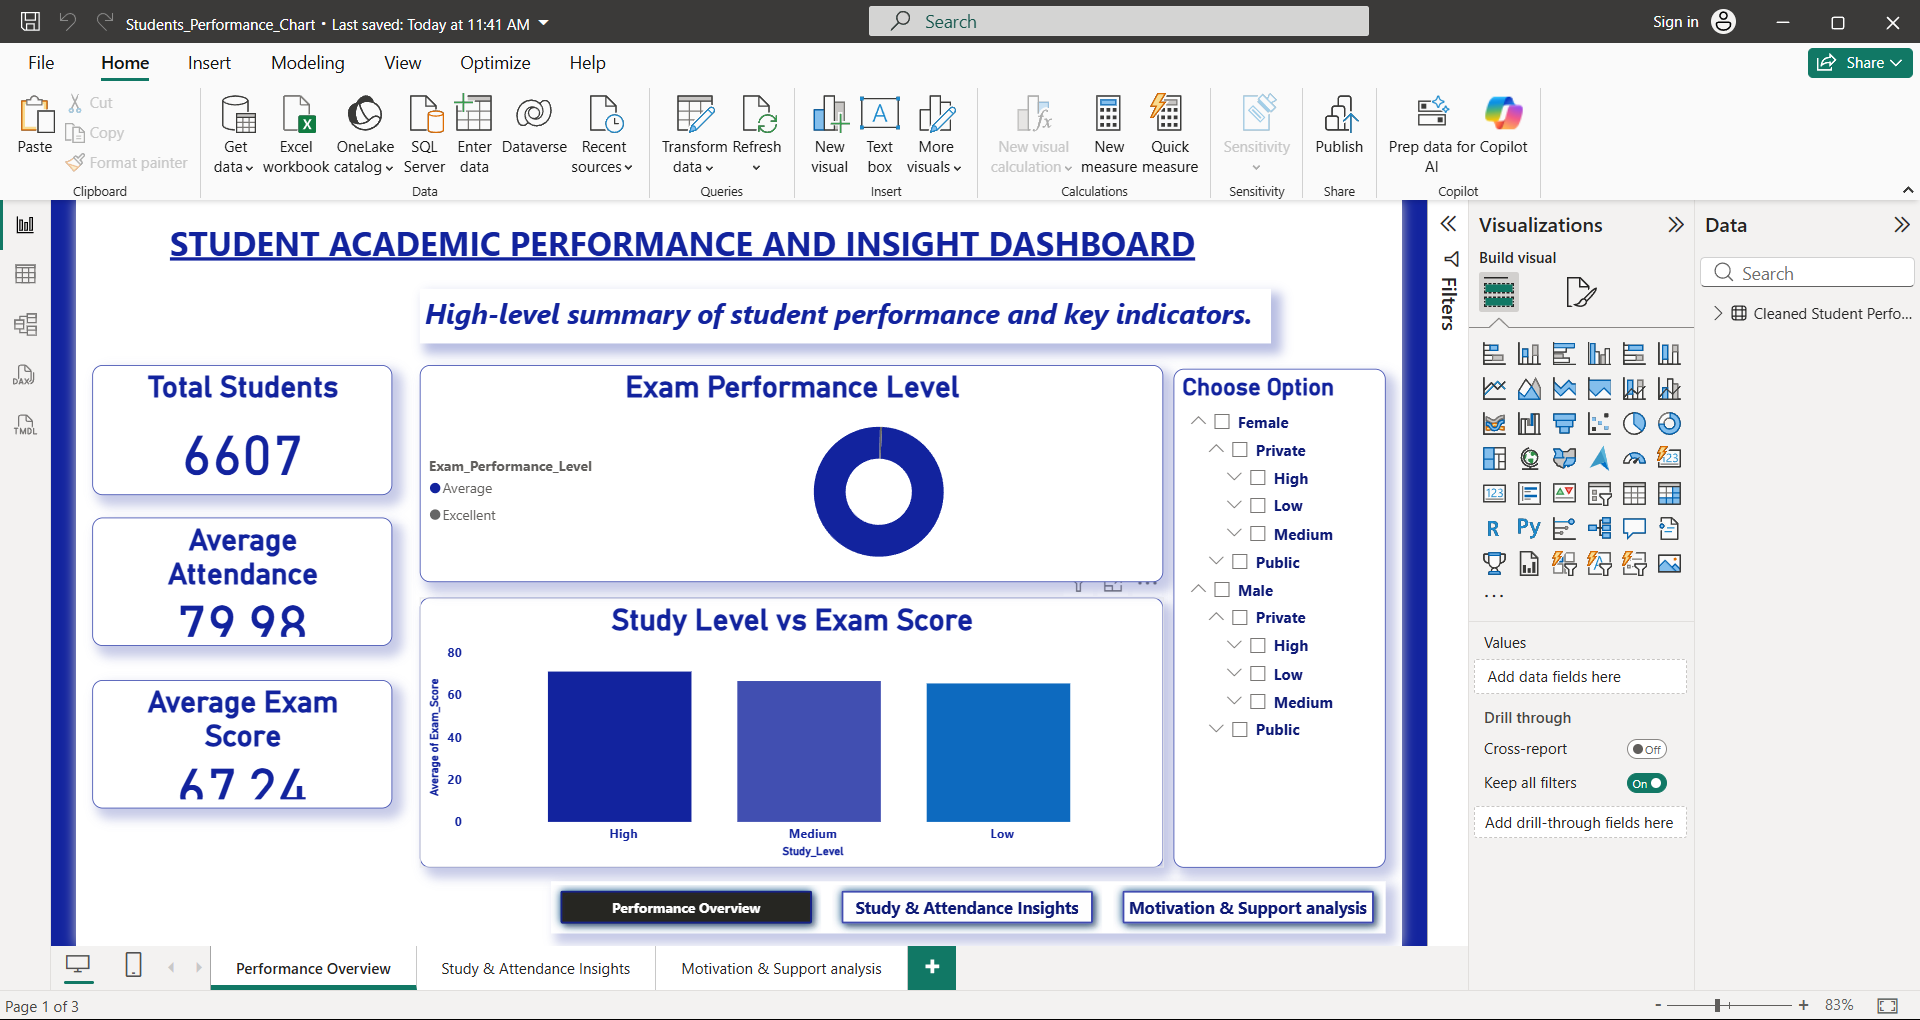

What the dashboard file says about the page in this screenshot:
{"tool":"powerbi","page":{"name":"Performance Overview","canvas":[1280,720],"ordinal":0},"visuals":[{"type":"card","title":"Total Students","fields":{"Values":["CountNonNull(Cleaned Student Performance 1.Gender)"]},"box":[15.7,159.3,289.5,125.5],"z":0},{"type":"card","title":"Average Exam Score","fields":{"Values":["Avg(Cleaned Student Performance 1.Exam_Score)"]},"box":[15.7,463.3,289.5,124.3],"z":1000},{"type":"card","title":"Average Attendance","fields":{"Values":["Avg(Cleaned Student Performance 1.Attendance)"]},"box":[15.7,306.4,289.5,124.3],"z":2000},{"type":"textbox","box":[85.7,14.5,1041.2,62.7],"z":3000},{"type":"textbox","box":[331.8,85.7,821.6,53.1],"z":4000},{"type":"clusteredColumnChart","title":"Study Level vs Exam Score","fields":{"Category":["Cleaned Student Performance 1.Study_Level"],"Y":["Avg(Cleaned Student Performance 1.Exam_Score)"]},"box":[331.8,383.6,717.8,260.6],"z":5000},{"type":"donutChart","title":"Exam Performance Level","fields":{"Category":["Cleaned Student Performance 1.Exam_Performance_Level"],"Y":["CountNonNull(Cleaned Student Performance 1.Exam_Score)"]},"box":[331.8,159.3,717.8,209.9],"z":6000},{"type":"slicer","title":"Choose Option","fields":{"Values":["Cleaned Student Performance 1.Gender","Cleaned Student Performance 1.School_Type","Cleaned Student Performance 1.Study_Level","Cleaned Student Performance 1.Exam_Performance_Level"]},"box":[1059.3,162.9,205.1,481.4],"z":7000},{"type":"pageNavigator","box":[458.4,657.5,805.9,50.7],"z":7002}]}

Visuals, with their boxes on the page's 1280x720 design canvas (x1, y1, x2, y2). These are canvas units, not pixel positions in the 1920x1020 screenshot, which may show the page scaled, cropped or inside an application window:
"Total Students" card: rect(16, 159, 305, 285)
"Average Exam Score" card: rect(16, 463, 305, 588)
"Average Attendance" card: rect(16, 306, 305, 431)
textbox: rect(86, 14, 1127, 77)
textbox: rect(332, 86, 1153, 139)
"Study Level vs Exam Score" clusteredColumnChart: rect(332, 384, 1050, 644)
"Exam Performance Level" donutChart: rect(332, 159, 1050, 369)
"Choose Option" slicer: rect(1059, 163, 1264, 644)
pageNavigator: rect(458, 658, 1264, 708)
